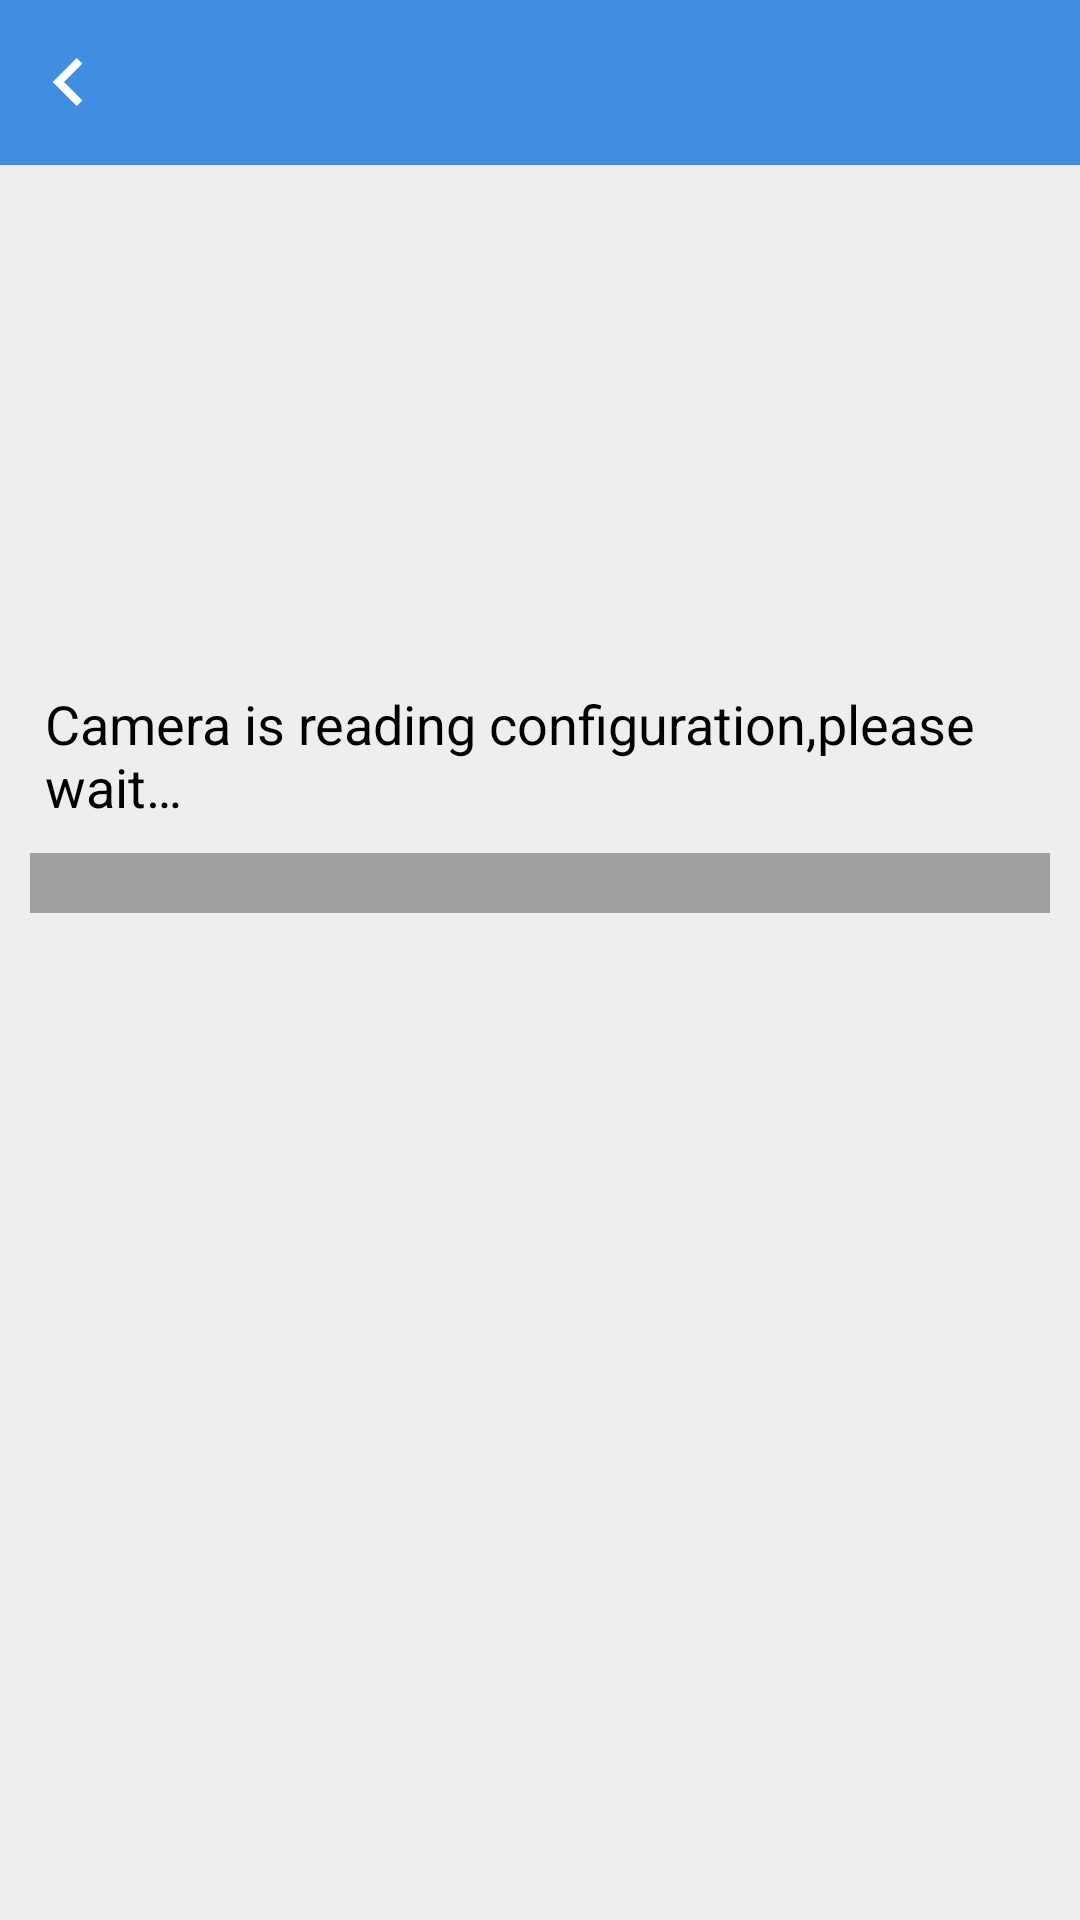

Point at icon controls on the screen. Image size 1080px×1920px, points as point (x, y).
back: point (68, 82)
